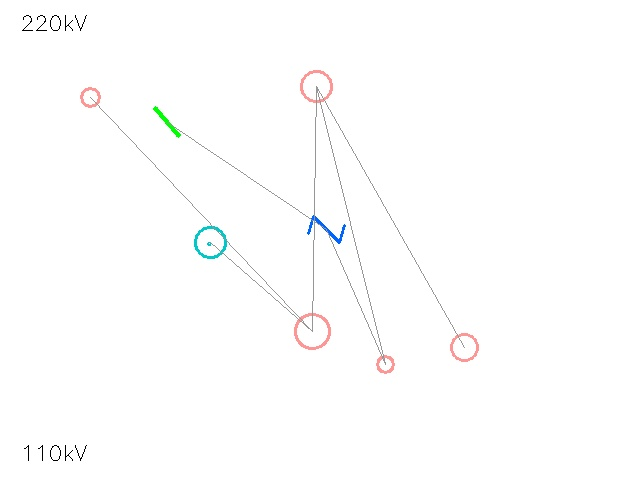busbar: (145, 100, 189, 144)
circuit_breaker: (308, 211, 344, 247)
disconnect_switch: (369, 348, 401, 380)
fuse: (278, 297, 346, 365), (72, 79, 108, 115)
generator: (195, 227, 225, 257)
reactor: (437, 320, 491, 374)
surge_arrester: (286, 56, 346, 116)
